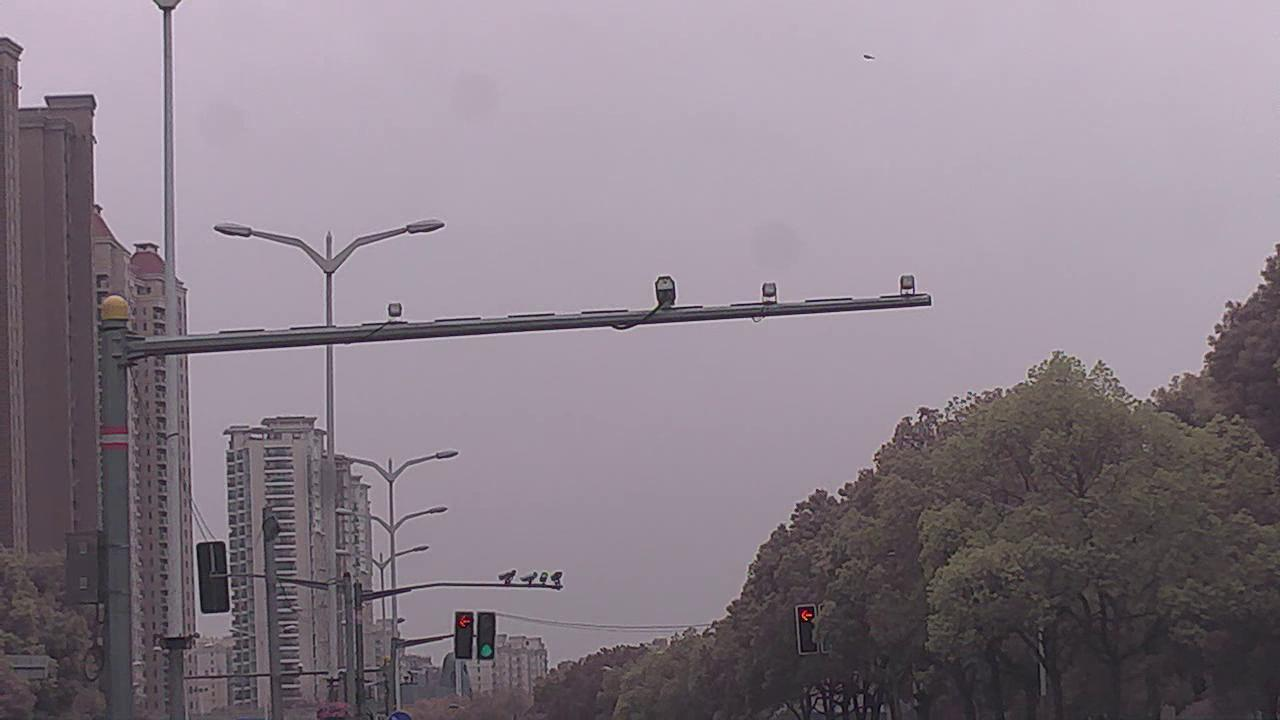traffic_light: (796, 604, 816, 654), (474, 610, 494, 658), (456, 610, 473, 656)
